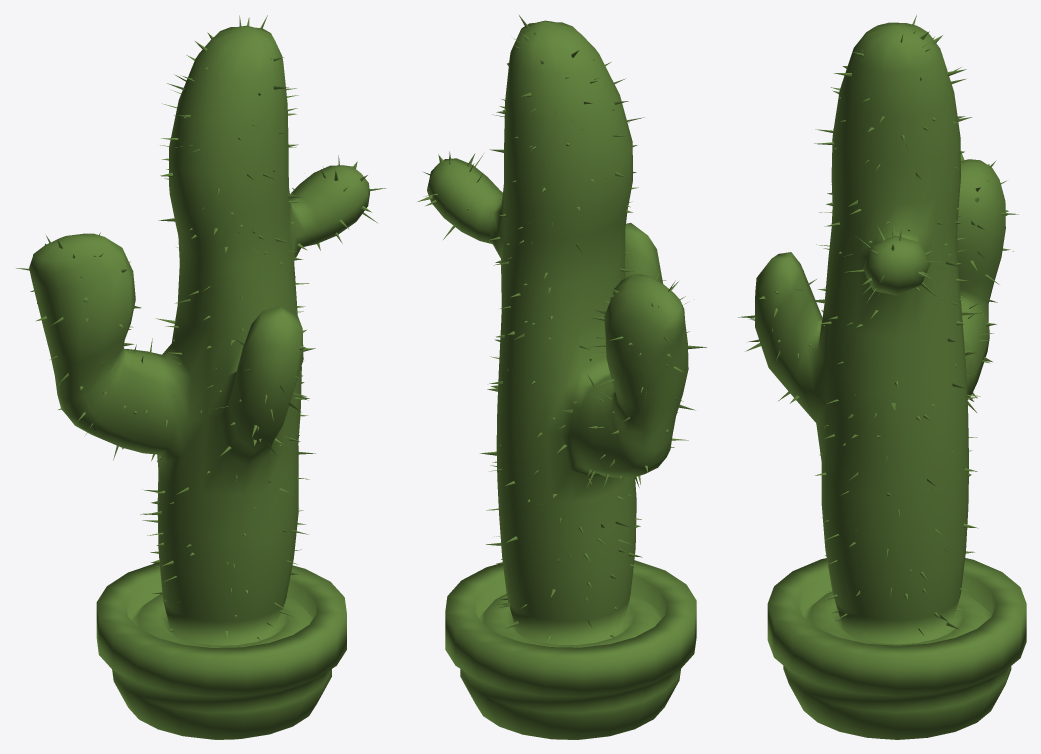
The model's file is Kaktus.fbx.
3 renders of one model, left to right at view 1: azimuth 30°, elevation 25°; view 2: azimuth 150°, elevation 25°; view 3: azimuth 270°, elevation 25°, orthographic. The views are drawn at different scales.
Parts seen in each view (by area): view 1: Sphere; view 2: Sphere; view 3: Sphere.
Boxes of the visible parts, x1,y1,x2,y2 form: Sphere: [16, 15, 386, 739]; Sphere: [417, 15, 706, 739]; Sphere: [738, 15, 1026, 739].
Size of the model in its own units: 527 by 1113 by 413.
